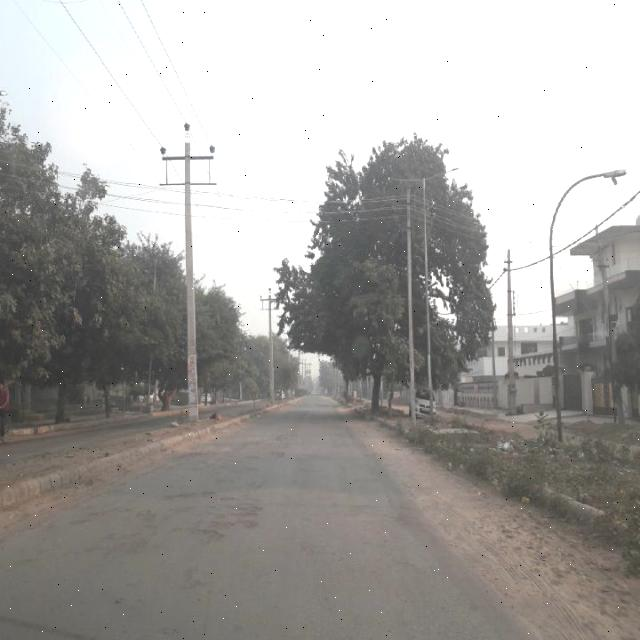D40: (145, 479, 263, 547)
